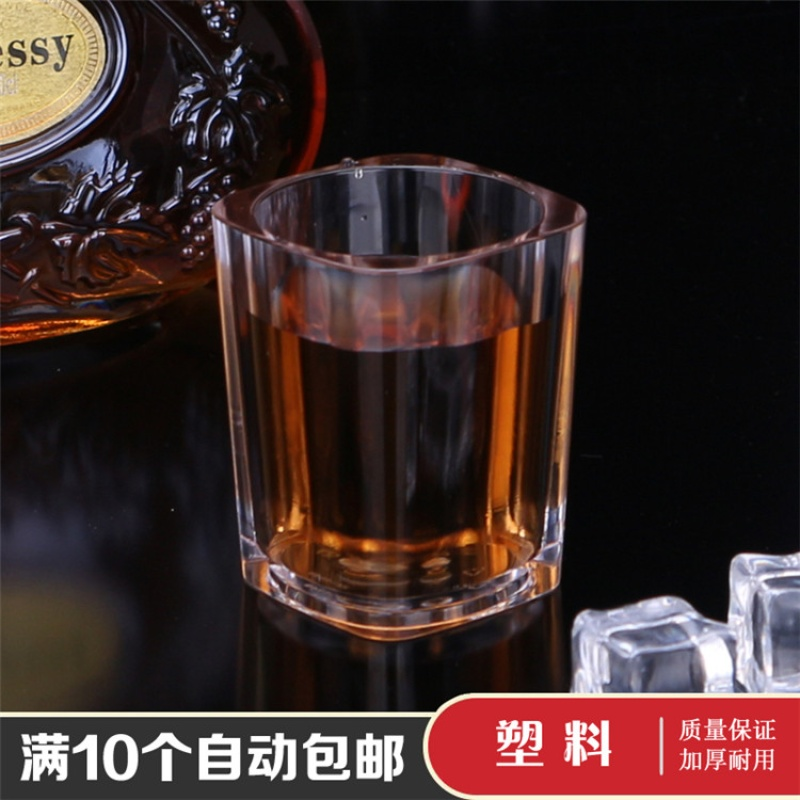whiskey: (234, 144, 595, 624)
